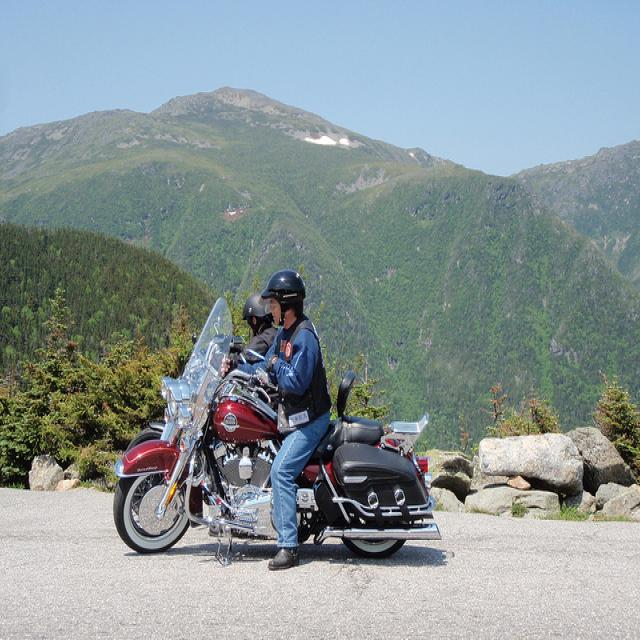motor: (110, 304, 450, 563)
